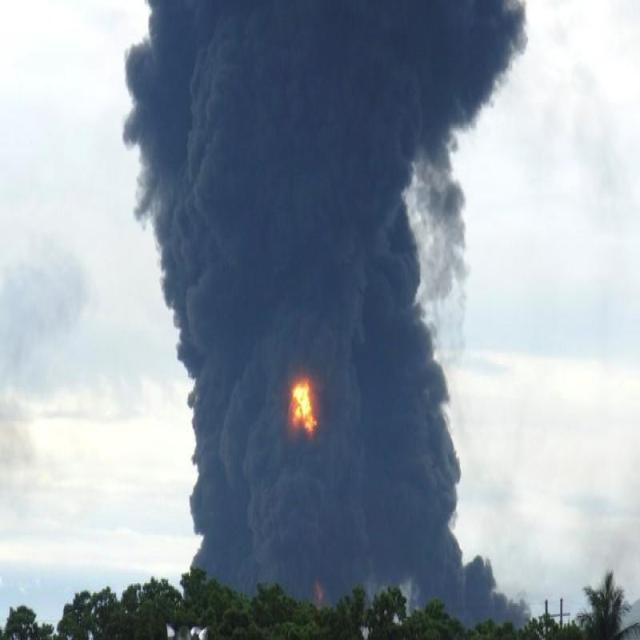Fire: (293, 386, 314, 424)
